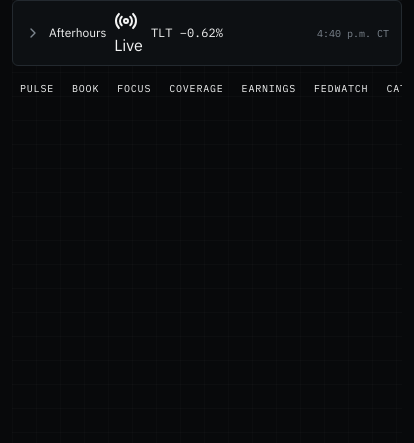
Test: OverviewStatusChrome › keeps the mobile session chrome collapsed until expanded
This screenshot has width=414, height=443.
Check: the text "Afterhours" is shown, box [49,24,106,42]
Check: the text "Live" is shown, box [114,9,143,57]
Click the heading "Afterhours Live TLT −0.62% 4:40 p.m. CT". click: click(207, 33)
box: [12,0,402,66]
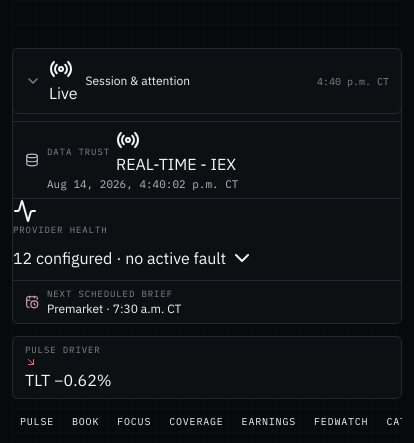
Check: the element named "Market session and data trust" is shown, box [12,78,402,324]
